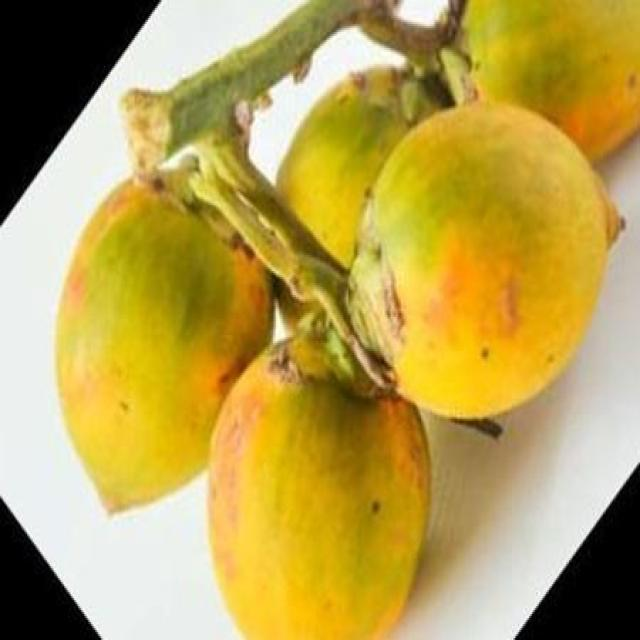good: (208, 101, 621, 638), (56, 181, 277, 518)
